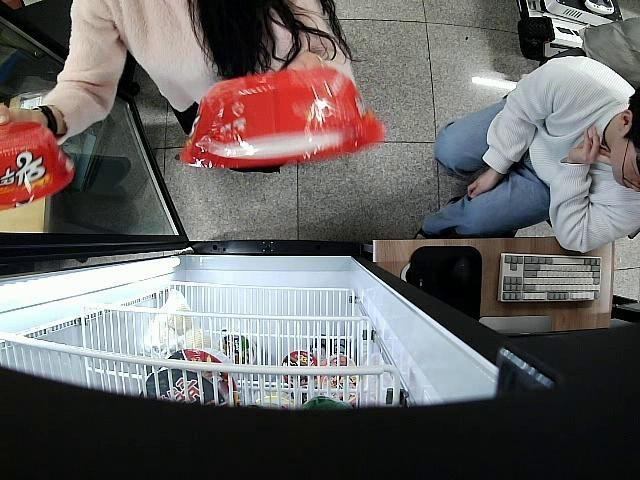10_wangTtukkeong: (179, 66, 386, 169), (0, 118, 77, 215)
